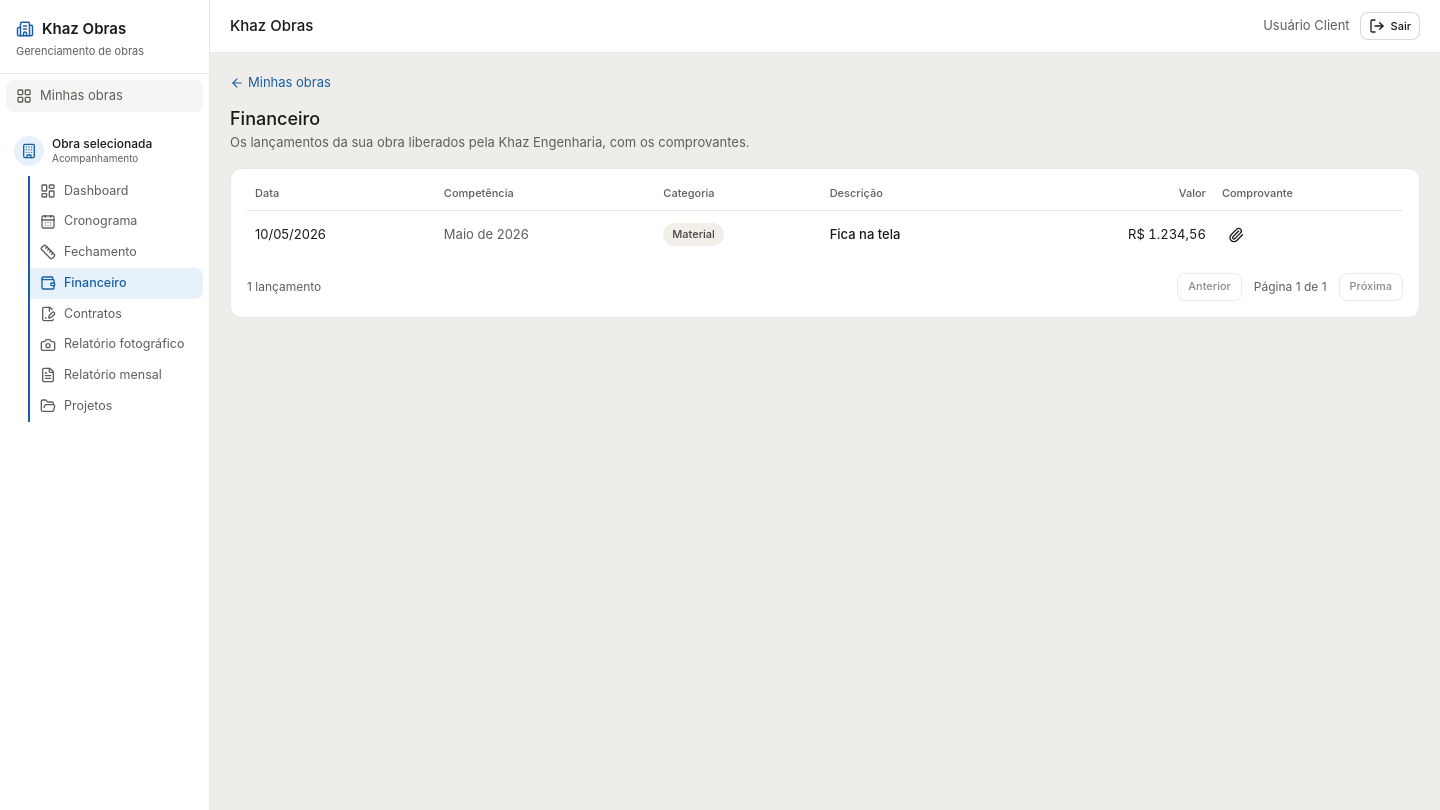
Test: Financeiro (cliente) › comprovantes › falha 500 no download mostra alerta e mantém a tabela
Click the button named "Baixar comprovante x.pdf": coordinates (1236, 234) [1222,220,1250,248]
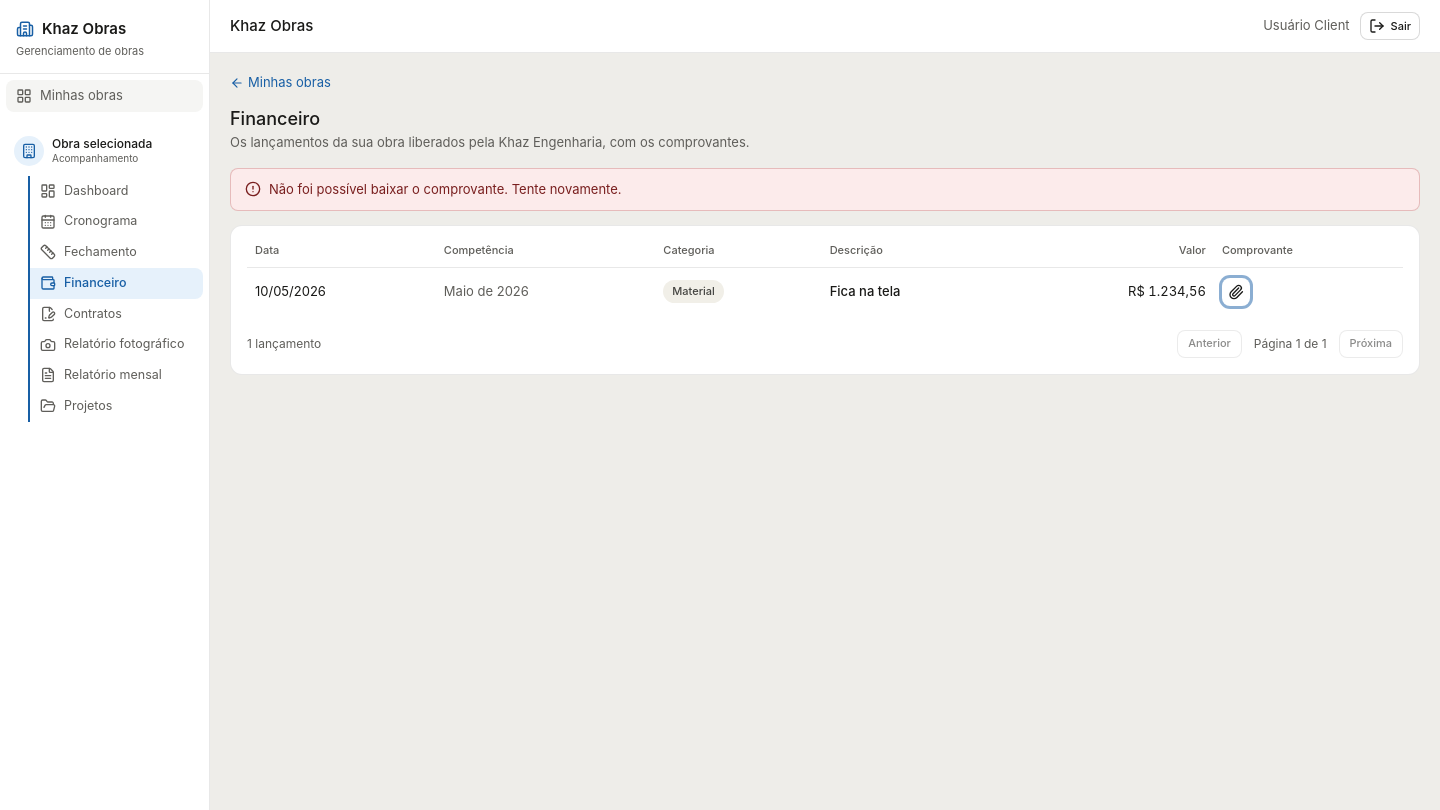
Expected: the text "Fica na tela" is shown, [822,267,1010,316]
Now the message shows "Não foi possível baixar o comprovante", box [269,181,622,197]
